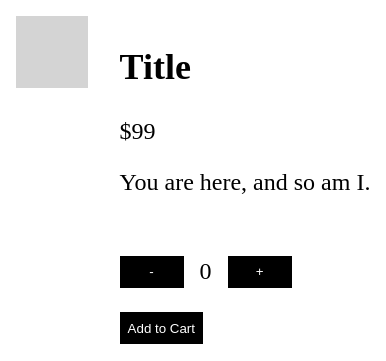
Test case: product quantity › increases quantity by pressing the '+' button
This screenshot has width=386, height=361.
Expected: the text with test id "quantity" reads "0", [200,258,212,284]
Click the button "+" at (260, 272), box [228,256,292,288]
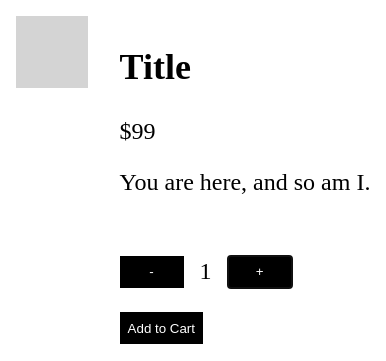
Result: the text with test id "quantity" reads "1" at [200,258,212,284]
